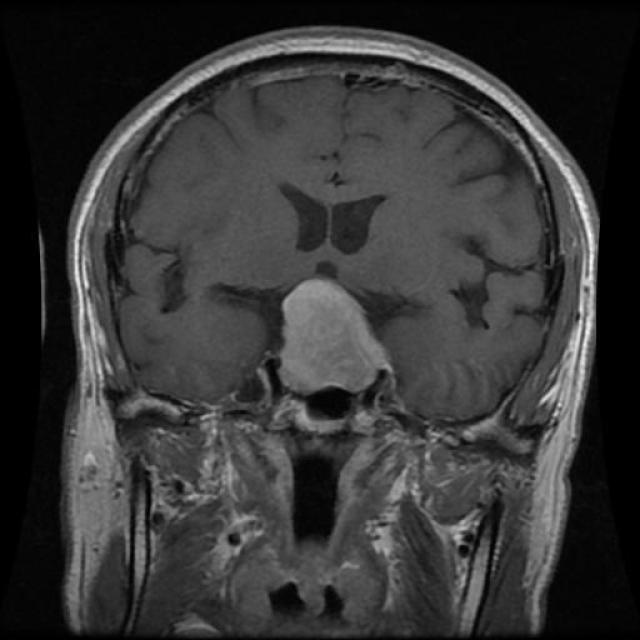pituitary: (274, 272, 398, 414)
